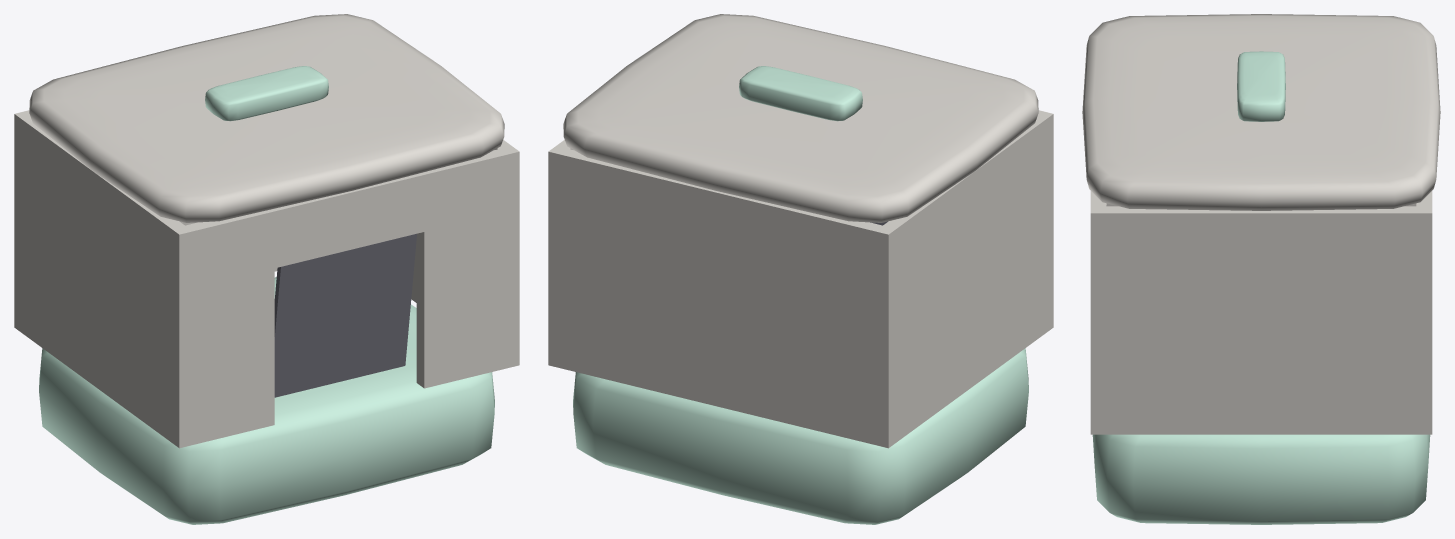
The model's file is companion-animals-and-pet-home-litter-tray-with-hood-a8b01c1f__20635.glb.
3 renders of one model, left to right at view 1: azimuth 30°, elevation 25°; view 2: azimuth 150°, elevation 25°; view 3: azimuth 270°, elevation 25°, orthographic. The views are drawn at different scales.
Visible parts, largest first — view 1: litter-tray-with-hood, litter-flap; view 2: litter-tray-with-hood; view 3: litter-tray-with-hood.
Part boxes in pixels (x1,y1,x2,y2): litter-tray-with-hood: (14,14,519,524); litter-flap: (274,233,416,397); litter-tray-with-hood: (548,14,1053,524); litter-tray-with-hood: (1082,14,1440,524).
Bounding box in the file's own units: 0.52 × 0.51 × 0.44.
